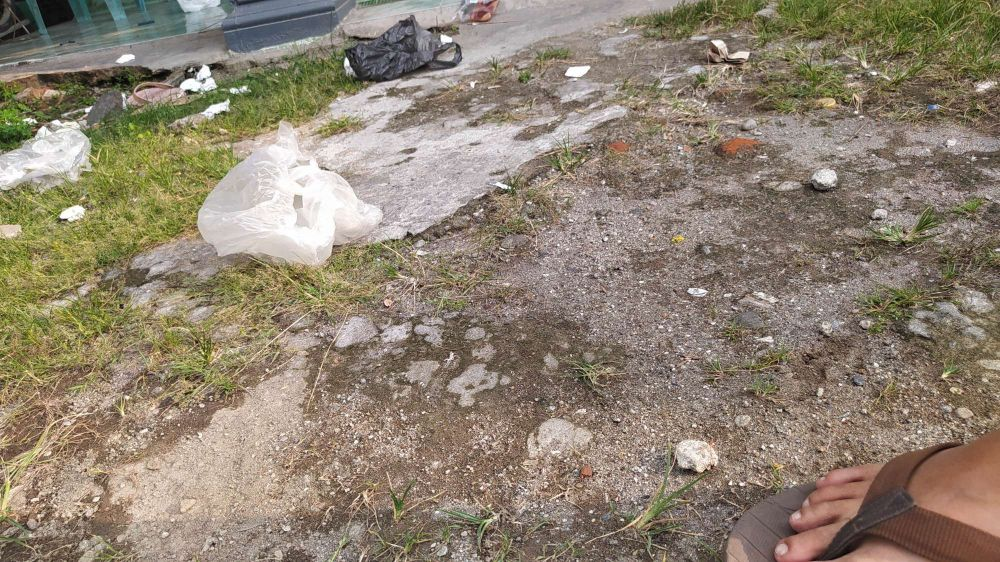plastik: (195, 143, 384, 269), (2, 123, 110, 190), (178, 63, 251, 120), (109, 47, 142, 70)
